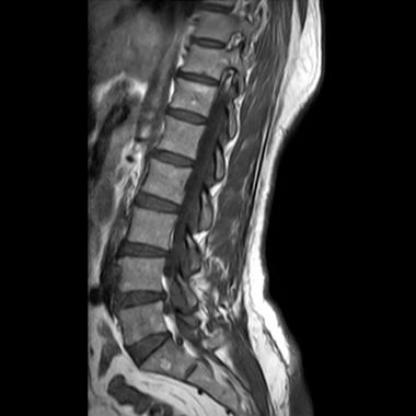Disc Bulgerotation: (111, 281, 167, 317), (115, 239, 172, 262)
